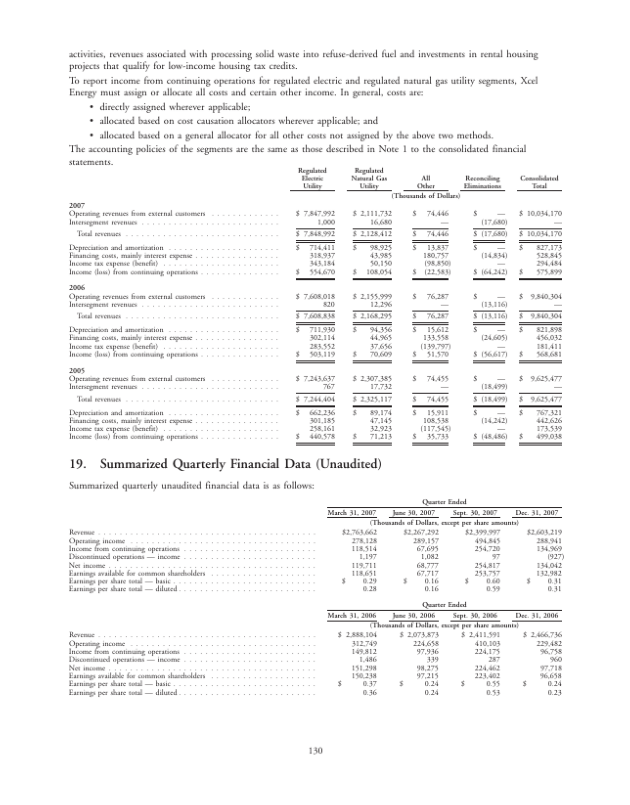table: (322, 602, 568, 706), (324, 493, 562, 594), (401, 169, 450, 446), (464, 172, 510, 453), (348, 167, 393, 449), (520, 171, 565, 448), (293, 162, 335, 451)
